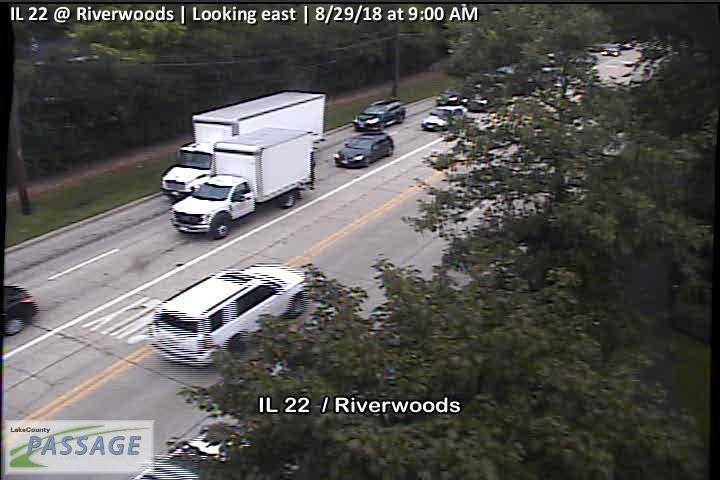SUV: (147, 261, 313, 368), (350, 98, 407, 131)
Sedan: (333, 131, 394, 168), (421, 104, 468, 130)
Truck: (159, 90, 326, 200), (168, 126, 316, 240)
